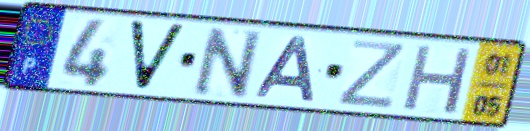4: (59, 16, 111, 89)
A: (252, 35, 318, 104)
H: (399, 41, 477, 117)
N: (191, 24, 265, 100)
V: (125, 17, 191, 94)
Z: (334, 37, 410, 111)
